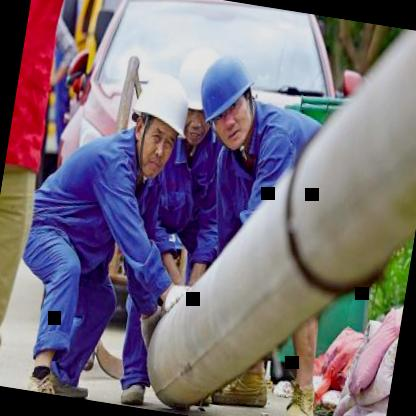helmet: (184, 39, 268, 158), (119, 64, 196, 178), (171, 36, 228, 148)
